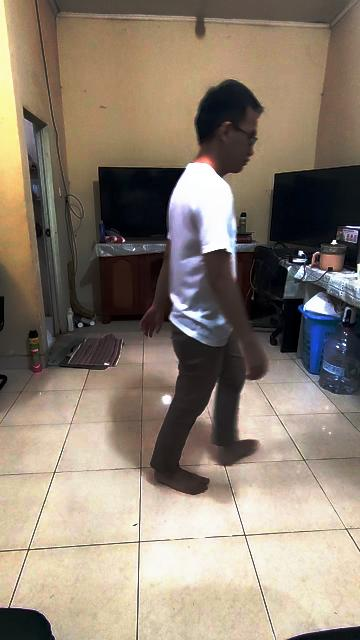berjalan: (142, 78, 268, 498)
